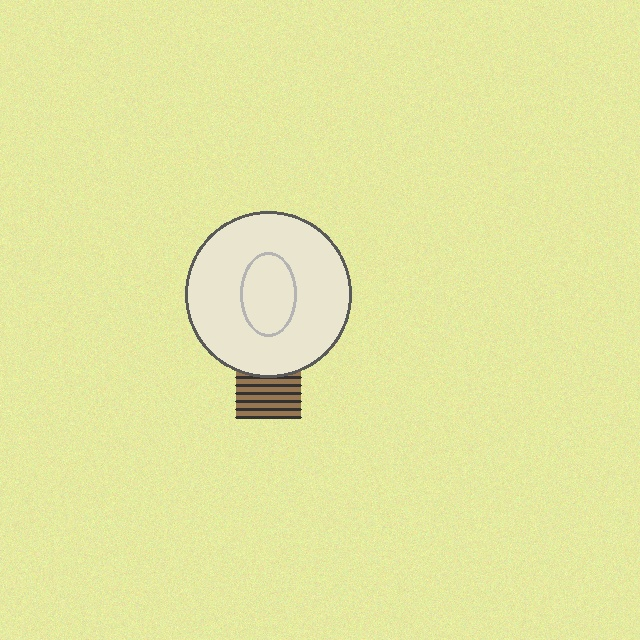bulb: (181, 207, 355, 423)
